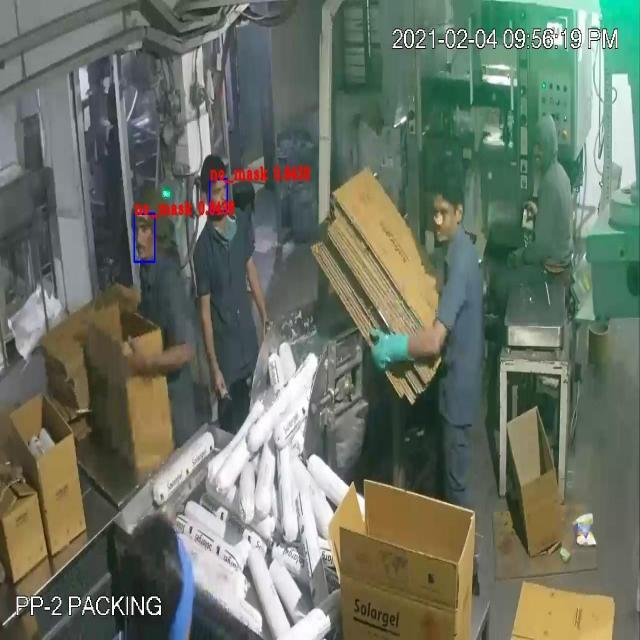No_Gloves: (30, 56, 406, 357)
